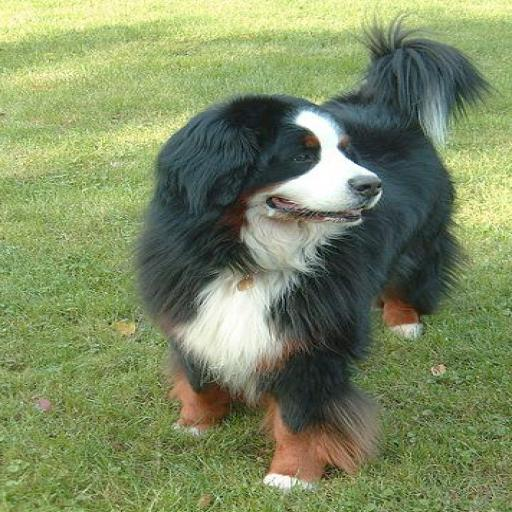dog_face: (183, 96, 376, 225)
